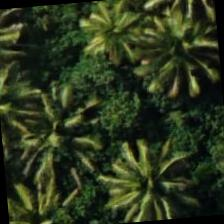Kelapa_Sawit: (111, 10, 210, 108), (113, 137, 211, 223)
